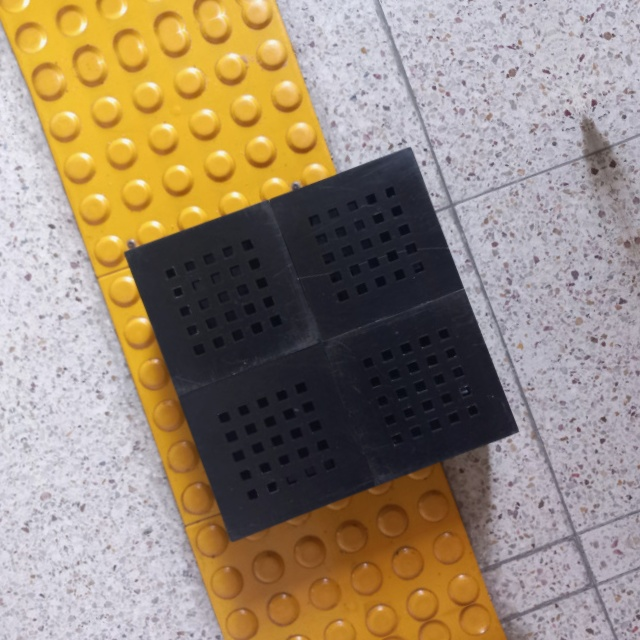pallet: (118, 138, 529, 546)
